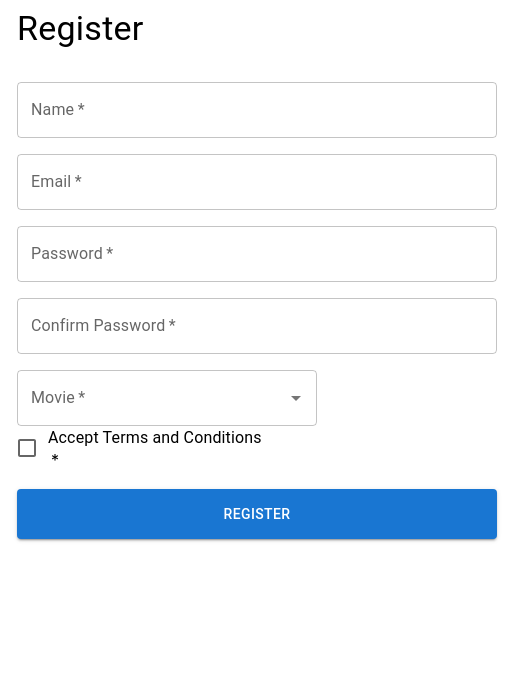
Test: Test Validate Password › It should show confirm password not match
Step 1. Type "sdfsetertetertedd" into the password field with test id "password-field-id" → coordinates (257, 254), box [17,226,497,282]
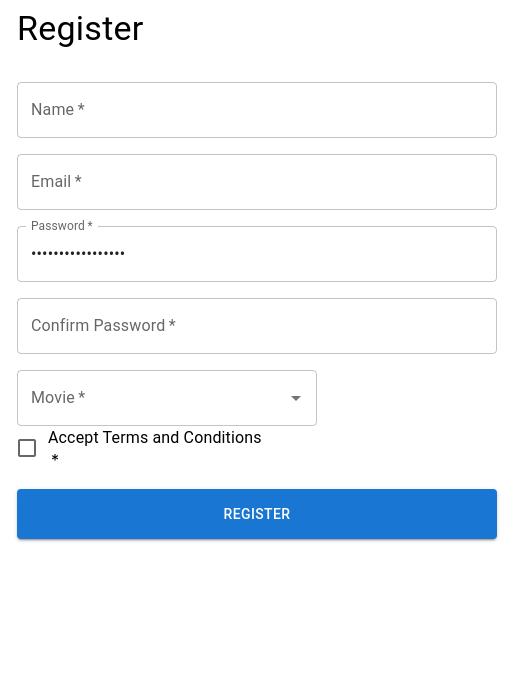
Step 2. Click the button "Register" → coordinates (257, 514), box [17,489,497,539]
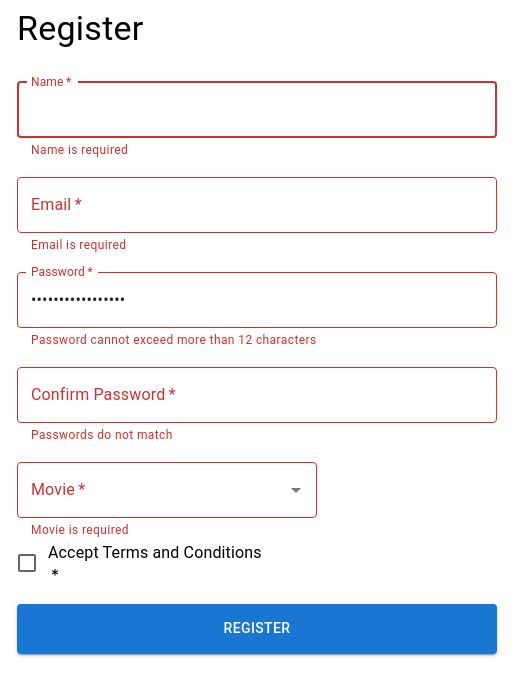
Expected: the text "Passwords do not match" is shown, [31,428,173,442]
